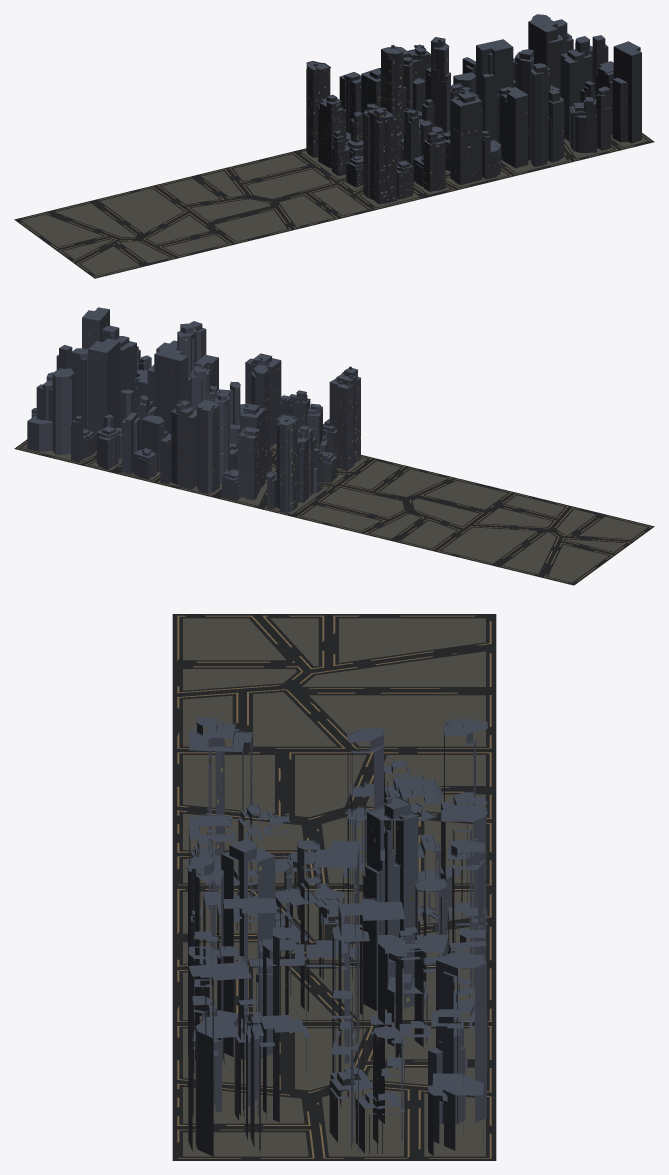
Rendered from mesh_bdgs_vista_b.gltf.
3 views of the same model, one above another, from view 1: azimuth 30°, elevation 25°; view 2: azimuth 150°, elevation 25°; view 3: azimuth 270°, elevation 25° (orthographic). The views are drawn at different scales.
Visible parts, largest first — view 1: geo1; view 2: geo1; view 3: geo1.
Boxes of the visible parts, x1,y1,x2,y2 form: geo1: [14, 14, 654, 278]; geo1: [14, 307, 654, 585]; geo1: [172, 614, 496, 1160].
Size of the model in its own units: 256 by 47.36 by 64.
